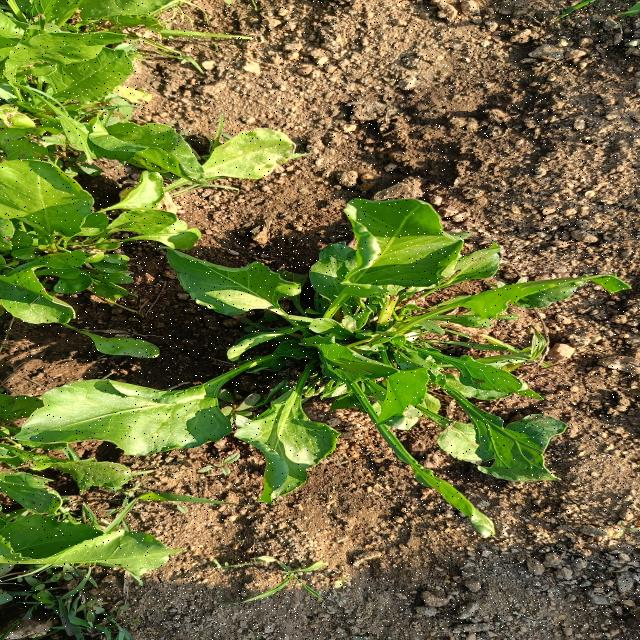leaves: (315, 367, 534, 534), (376, 327, 590, 483), (7, 347, 287, 466), (362, 251, 640, 347), (293, 196, 483, 336), (125, 123, 318, 215), (228, 358, 342, 510), (154, 243, 319, 335), (1, 517, 197, 587), (1, 155, 103, 262), (404, 229, 524, 311), (12, 78, 112, 167), (31, 48, 143, 122), (302, 234, 388, 326), (1, 258, 80, 342), (56, 317, 187, 366), (368, 363, 466, 427), (16, 457, 165, 497), (85, 166, 171, 228), (87, 209, 189, 249), (2, 472, 83, 512)
